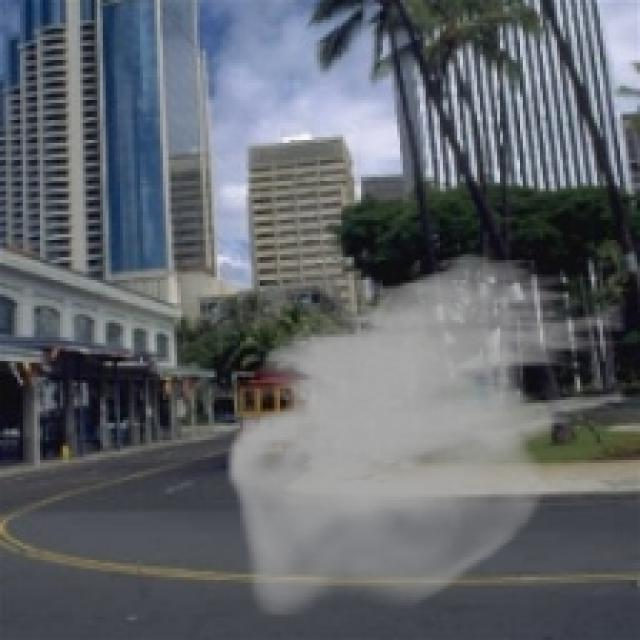smoke: (225, 249, 626, 617)
